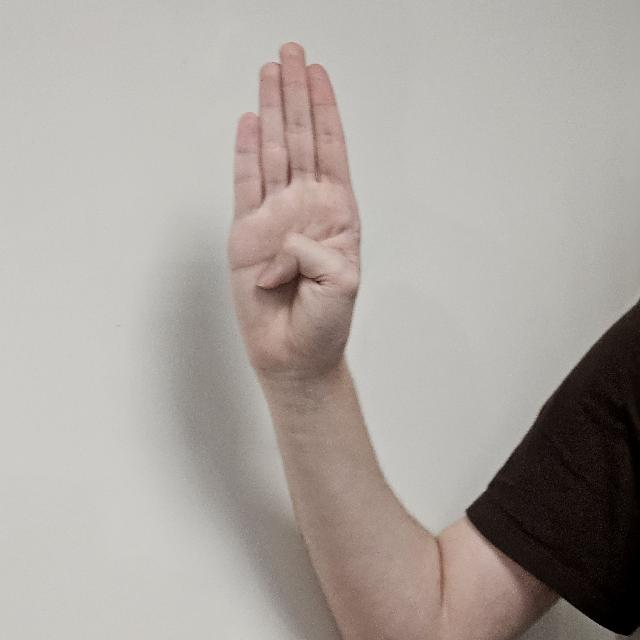Baixo: (218, 47, 366, 430)
